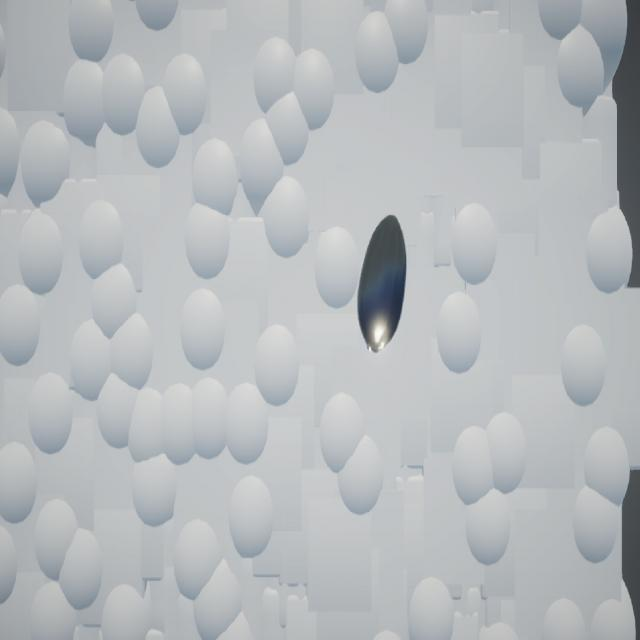top_spoon: (358, 215, 407, 355)
